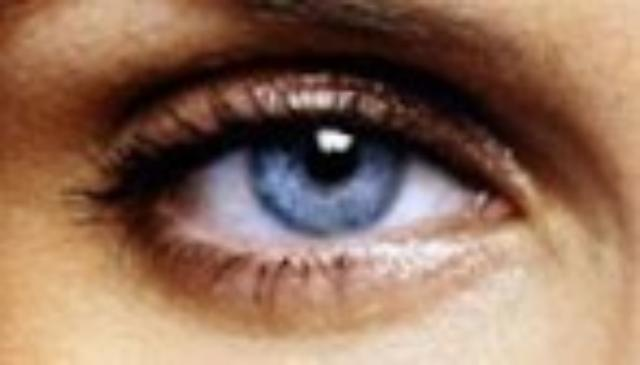eye: (244, 119, 404, 243)
